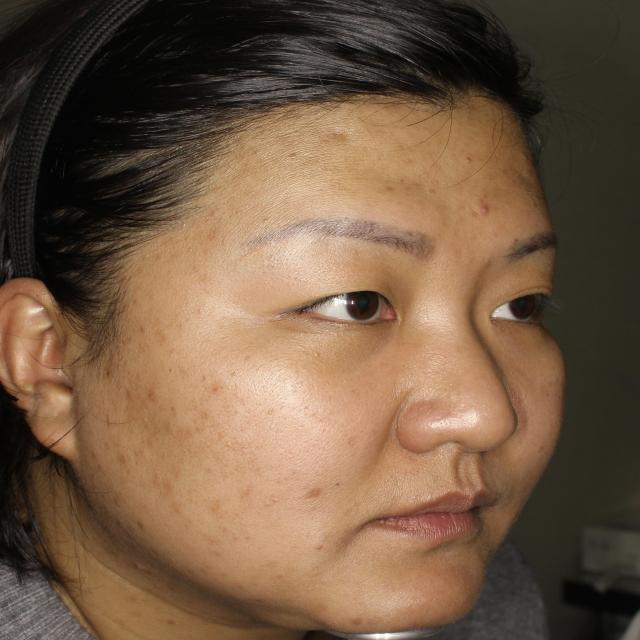comedone: (462, 195, 500, 227), (98, 356, 125, 388), (153, 396, 172, 416)
